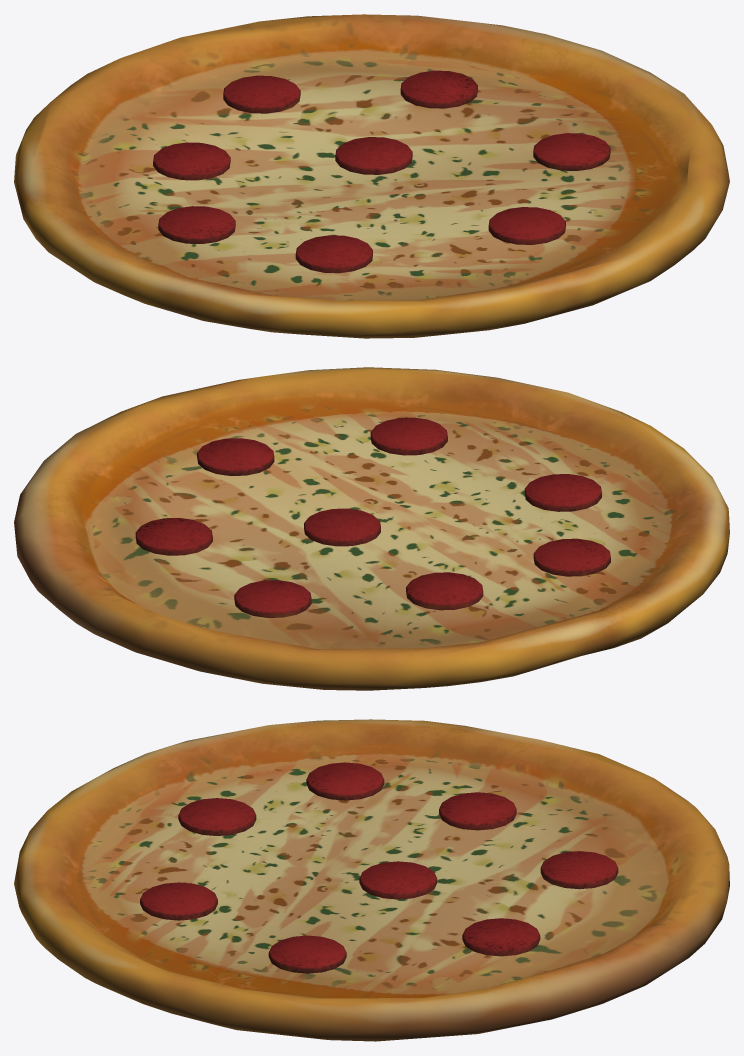
File: Pizza.fbx
3 views of the same model, one above another, from view 1: azimuth 30°, elevation 25°; view 2: azimuth 150°, elevation 25°; view 3: azimuth 270°, elevation 25° (orthographic).
Visible parts, largest first — view 1: Pizza; view 2: Pizza; view 3: Pizza.
Part boxes in pixels (x1,y1,x2,y2): Pizza: [14, 14, 729, 338]; Pizza: [14, 367, 729, 690]; Pizza: [14, 719, 729, 1041].
Size of the model in its own units: 2.3 by 0.1132 by 2.3.
